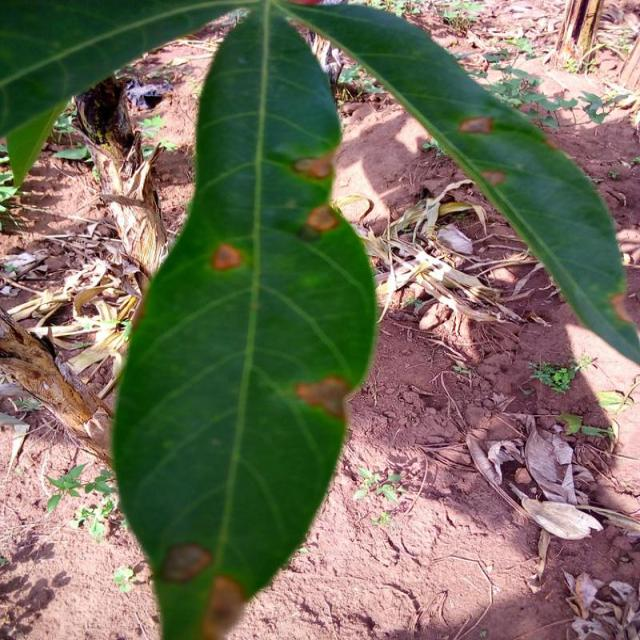cassava leaf: (109, 2, 378, 638)
